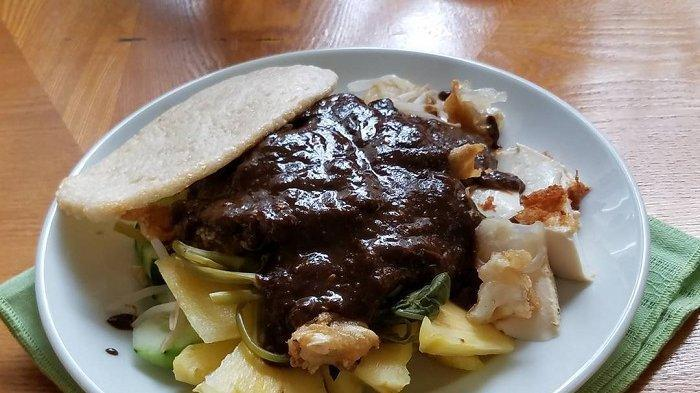rujak_cingur: (54, 63, 592, 393)
